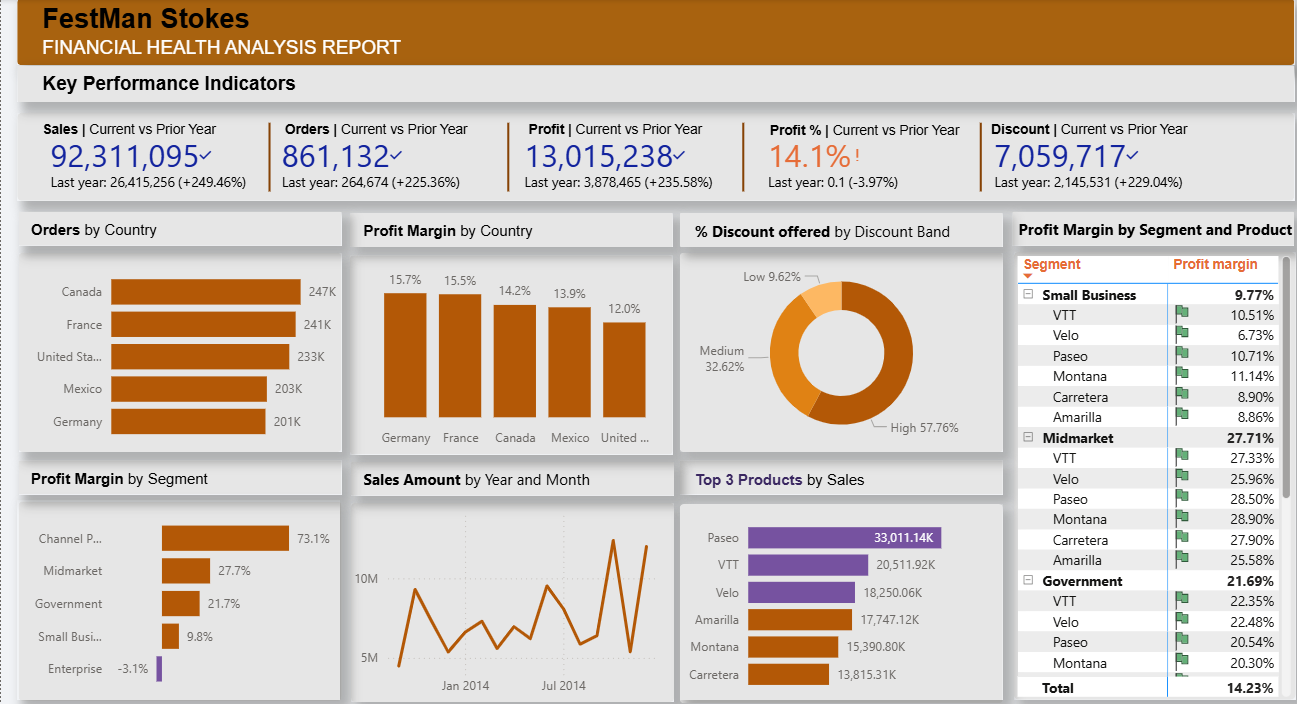

The dashboard page shown, as its layout file describes it:
{"tool":"powerbi","page":{"name":"Page 1","canvas":[1280,720],"ordinal":0},"visuals":[{"type":"shape","box":[990,247.5,276.2,438.8],"z":0},{"type":"shape","box":[664.3,450.8,316,33.6],"z":1000},{"type":"shape","box":[16.1,111.6,1249.3,86.1],"z":2000},{"type":"shape","box":[342.5,492.5,316,195],"z":3000},{"type":"shape","box":[342.5,452.2,316,33.6],"z":4000},{"type":"shape","box":[341.1,250.4,316,195],"z":5000},{"type":"shape","box":[341.4,209,316,33.6],"z":6000},{"type":"shape","box":[16.7,491.4,316,195],"z":7000},{"type":"shape","box":[16.7,451.1,316,33.6],"z":8000},{"type":"shape","box":[16.7,248.3,316,195],"z":9000},{"type":"shape","box":[16.7,208,316,33.6],"z":10000},{"type":"textbox","box":[24.2,211.1,285.1,36.3],"z":11000},{"type":"barChart","fields":{"Category":["financials.Country"],"Y":["Analysis.Orders"]},"box":[16.2,250,316.2,193.8],"z":12000},{"type":"clusteredColumnChart","fields":{"Category":["financials.Country"],"Y":["Analysis.Profit margin"]},"box":[342.5,250,315,193.8],"z":13000},{"type":"textbox","box":[349.2,212.5,285.1,36.3],"z":14000},{"type":"barChart","fields":{"Category":["financials.Segment"],"Y":["Analysis.Profit margin"]},"box":[16.1,490.9,316,195],"z":15000},{"type":"textbox","box":[349.2,454.6,285.1,36.3],"z":16000},{"type":"textbox","box":[24.2,454.6,285.1,36.3],"z":17000},{"type":"lineChart","fields":{"Y":["Analysis.Sales Amount"],"Category":["Date Table.Date.Variation.Date Hierarchy.Year","Date Table.Date.Variation.Date Hierarchy.Month"]},"box":[341.2,491.2,316.2,197.5],"z":18000},{"type":"shape","box":[664.3,493.8,316,195],"z":19000},{"type":"shape","box":[16.1,0,1249.3,64.6],"z":20000},{"type":"shape","box":[16.1,64.6,1249.3,36.3],"z":21000},{"type":"shape","box":[989.8,208.4,275.7,33.6],"z":22000},{"type":"shape","box":[663.8,248.8,316.2,195],"z":23000},{"type":"shape","box":[664.3,208.7,316,33.6],"z":24000},{"type":"textbox","box":[35,0,259.6,45.7],"z":25000},{"type":"textbox","box":[35,32.3,395.4,36.3],"z":26000},{"type":"textbox","box":[35,67.2,274.3,36.3],"z":27000},{"type":"kpi","fields":{"Indicator":["Analysis.Sales Amount"],"TrendLine":["Date Table.Year"],"Goal":["Analysis.Sales Amount Last Year"]},"box":[35,125,227.5,72.5],"z":28000},{"type":"textbox","box":[35,112.5,285,36.2],"z":29000},{"type":"shape","box":[216.2,121.2,92.5,67.5],"z":30000},{"type":"kpi","fields":{"TrendLine":["Date Table.Year"],"Indicator":["Analysis.Orders"],"Goal":["Analysis.Orders Last Year"]},"box":[261.6,125,238.8,72.5],"z":31000},{"type":"kpi","fields":{"TrendLine":["Date Table.Year"],"Indicator":["Analysis.Profit"],"Goal":["Analysis.Profit Last Year"]},"box":[499.4,125,238.8,72.5],"z":32000},{"type":"kpi","fields":{"TrendLine":["Date Table.Year"],"Indicator":["Analysis.Profit margin"],"Goal":["Analysis.Profit margin Last Year"]},"box":[737.5,125,221.2,72.5],"z":33000},{"type":"kpi","fields":{"TrendLine":["Date Table.Year"],"Indicator":["Analysis.Discount offered"],"Goal":["Analysis.Discount Offered Last Year"]},"box":[958.8,125,238.8,72.5],"z":34000},{"type":"textbox","box":[272.5,112.5,275,36.2],"z":35000},{"type":"textbox","box":[511.2,112.5,273.8,36.2],"z":36000},{"type":"textbox","box":[747.5,113.8,242.5,36.2],"z":37000},{"type":"textbox","box":[963.8,112.5,285,36.2],"z":38000},{"type":"shape","box":[912.5,121.2,92.5,67.5],"z":39000},{"type":"shape","box":[680,121.2,92.5,67.5],"z":40000},{"type":"shape","box":[450,121.2,92.5,67.5],"z":41000},{"type":"donutChart","fields":{"Y":["Analysis.Discount offered"],"Category":["financials.Discount Band"]},"box":[663.8,250,316.2,193.8],"z":42000},{"type":"textbox","box":[673.8,211.1,285.1,36.3],"z":43000},{"type":"textbox","box":[673.8,455.9,285.1,36.3],"z":44000},{"type":"barChart","fields":{"Y":["Analysis.Sales Amount"],"Category":["financials.Product"]},"box":[664.3,493.6,316,192.3],"z":45000},{"type":"pivotTable","fields":{"Rows":["financials.Segment","financials.Product"],"Values":["Analysis.Profit margin"]},"box":[990,248.8,275,438.8],"z":46000},{"type":"textbox","box":[990,210,290,36.2],"z":47000}]}

Visuals, with their boxes on the page's 1280x720 design canvas (x1, y1, x2, y2). These are canvas units, not pixel positions in the 1297x704 screenshot, which may show the page scaled, cropped or inside an application window:
shape: box(990, 248, 1266, 686)
shape: box(664, 451, 980, 484)
shape: box(16, 112, 1265, 198)
shape: box(342, 492, 658, 688)
shape: box(342, 452, 658, 486)
shape: box(341, 250, 657, 445)
shape: box(341, 209, 657, 243)
shape: box(17, 491, 333, 686)
shape: box(17, 451, 333, 485)
shape: box(17, 248, 333, 443)
shape: box(17, 208, 333, 242)
textbox: box(24, 211, 309, 247)
barChart - financials.Country x Analysis.Orders: box(16, 250, 332, 444)
clusteredColumnChart - financials.Country x Analysis.Profit margin: box(342, 250, 658, 444)
textbox: box(349, 212, 634, 249)
barChart - financials.Segment x Analysis.Profit margin: box(16, 491, 332, 686)
textbox: box(349, 455, 634, 491)
textbox: box(24, 455, 309, 491)
lineChart - Analysis.Sales Amount x Date Table.Date.Variation.Date Hierarchy.Year: box(341, 491, 657, 689)
shape: box(664, 494, 980, 689)
shape: box(16, 0, 1265, 65)
shape: box(16, 65, 1265, 101)
shape: box(990, 208, 1266, 242)
shape: box(664, 249, 980, 444)
shape: box(664, 209, 980, 242)
textbox: box(35, 0, 295, 46)
textbox: box(35, 32, 430, 69)
textbox: box(35, 67, 309, 104)
kpi - Analysis.Sales Amount x Date Table.Year: box(35, 125, 262, 198)
textbox: box(35, 112, 320, 149)
shape: box(216, 121, 309, 189)
kpi - Date Table.Year x Analysis.Orders: box(262, 125, 500, 198)
kpi - Date Table.Year x Analysis.Profit: box(499, 125, 738, 198)
kpi - Date Table.Year x Analysis.Profit margin: box(738, 125, 959, 198)
kpi - Date Table.Year x Analysis.Discount offered: box(959, 125, 1198, 198)
textbox: box(272, 112, 548, 149)
textbox: box(511, 112, 785, 149)
textbox: box(748, 114, 990, 150)
textbox: box(964, 112, 1249, 149)
shape: box(912, 121, 1005, 189)
shape: box(680, 121, 772, 189)
shape: box(450, 121, 542, 189)
donutChart - Analysis.Discount offered x financials.Discount Band: box(664, 250, 980, 444)
textbox: box(674, 211, 959, 247)
textbox: box(674, 456, 959, 492)
barChart - Analysis.Sales Amount x financials.Product: box(664, 494, 980, 686)
pivotTable - financials.Segment x financials.Product: box(990, 249, 1265, 688)
textbox: box(990, 210, 1280, 246)
